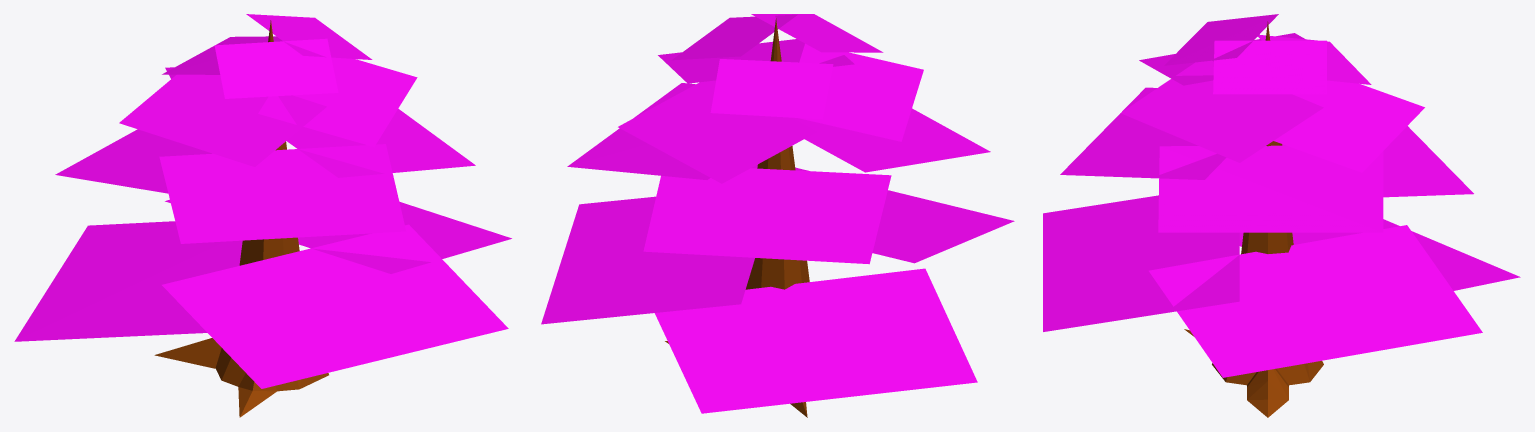
Rendered from oaktree.obj.
The picture shows the model from 3 angles, left to right: view 1: azimuth 30°, elevation 25°; view 2: azimuth 150°, elevation 25°; view 3: azimuth 270°, elevation 25°; orthographic projection.
Visible parts, largest first — view 1: oaktree_back; view 2: oaktree_back; view 3: oaktree_back.
Part boxes in pixels (x1,y1,x2,y2): oaktree_back: (14,14,511,417); oaktree_back: (541,14,1014,417); oaktree_back: (1043,14,1520,417).
Bounding box in the file's own units: 3.62 × 2.7 × 3.4.
